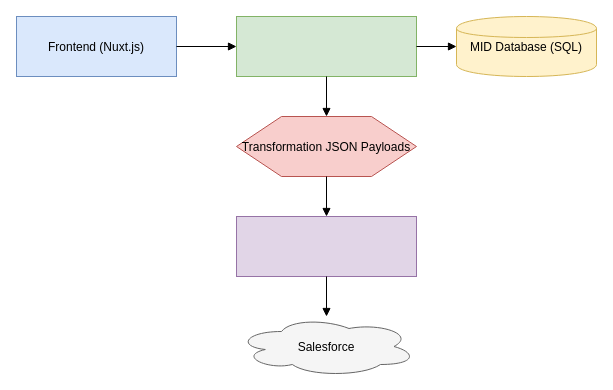
Some shapes in this 613 by 390 pixel diagram are drawn without their labels. The centre of each missing label's shape, as x and y in pixels:
Backend (Node.js + SQL): (x=326, y=46)
MuleSoft API: (x=326, y=246)
